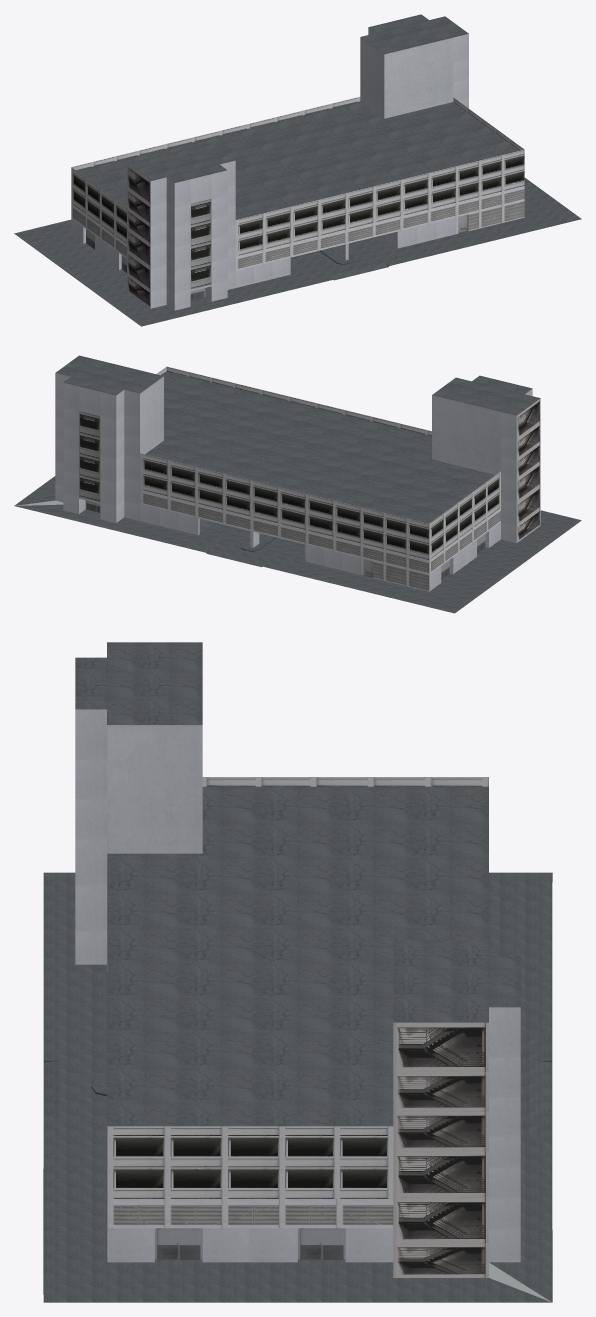
File: gnhotel01_lvs.obj
3 renders of one model, top to bottom at view 1: azimuth 30°, elevation 25°; view 2: azimuth 150°, elevation 25°; view 3: azimuth 270°, elevation 25°, orthographic. The views are drawn at different scales.
Parts seen in each view (by area): view 1: gnhotel01_lvs; view 2: gnhotel01_lvs; view 3: gnhotel01_lvs.
Boxes of the visible parts, left/top/right/bottom form: gnhotel01_lvs: left=14, top=14, right=581, bottom=326; gnhotel01_lvs: left=14, top=355, right=581, bottom=613; gnhotel01_lvs: left=43, top=642, right=552, bottom=1302.
Size of the model in its own units: 80.02 by 22.28 by 40.02.
8 materials, 8 textured.
